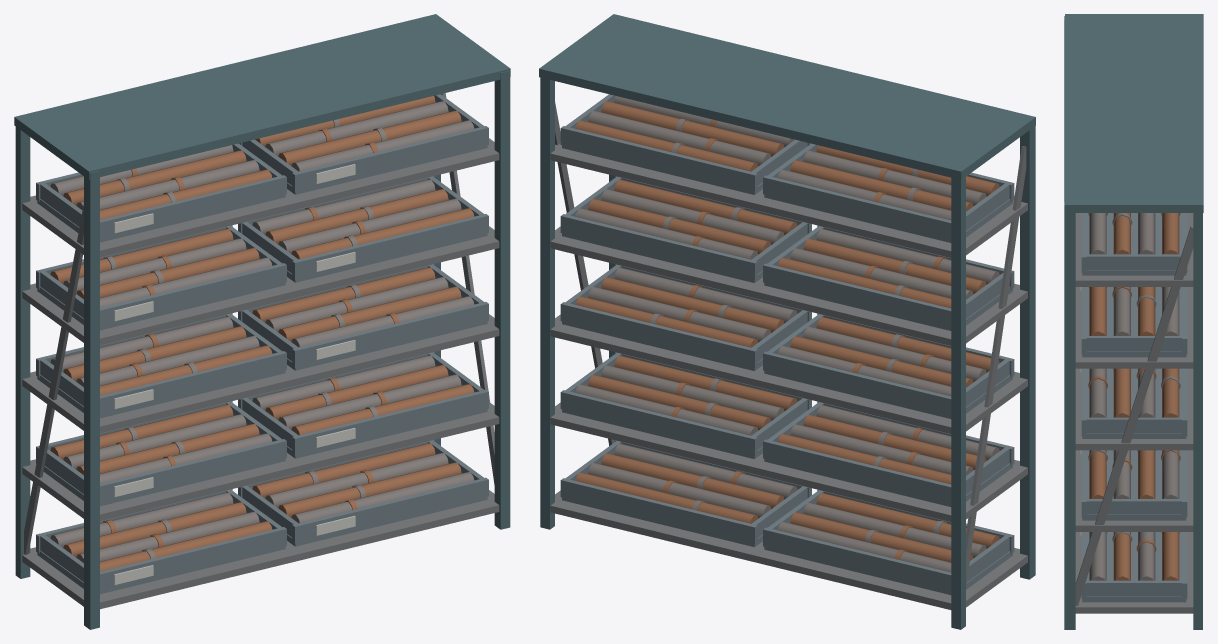
File: astro_drill_core_rack.fbx
3 views of the same model, side by side, from view 1: azimuth 30°, elevation 25°; view 2: azimuth 150°, elevation 25°; view 3: azimuth 270°, elevation 25° (orthographic). The views are drawn at different scales.
Visible parts, largest first — view 1: DrillCoreRack_Body; view 2: DrillCoreRack_Body; view 3: DrillCoreRack_Body.
Part boxes in pixels (x1,y1,x2,y2): DrillCoreRack_Body: (14,14,510,629); DrillCoreRack_Body: (539,14,1035,629); DrillCoreRack_Body: (1064,14,1203,629).
Size of the model in its own units: 261 by 271 by 80.5.
